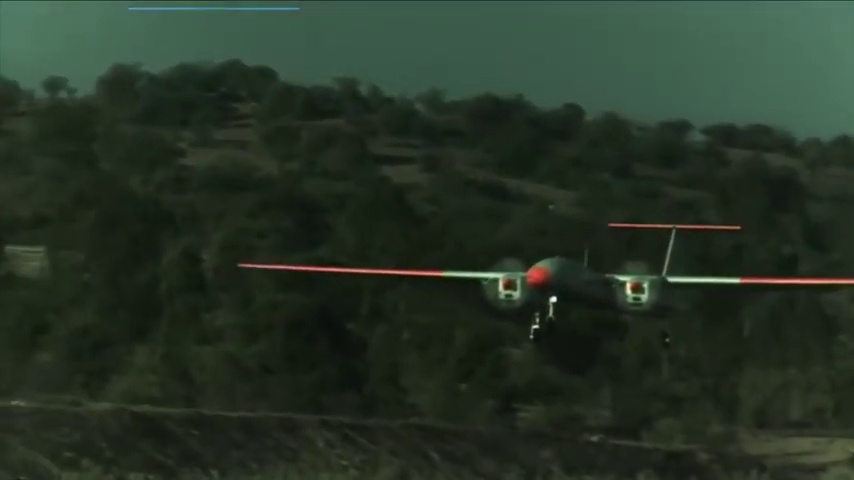military drone: (237, 223, 854, 345)
